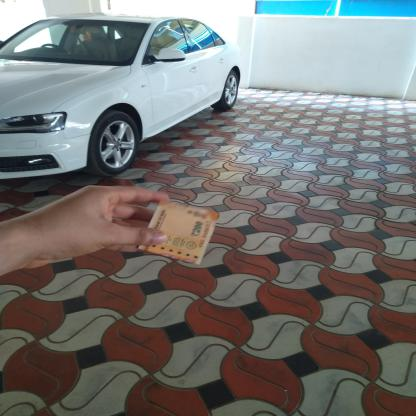New200Front: (141, 202, 214, 260)
